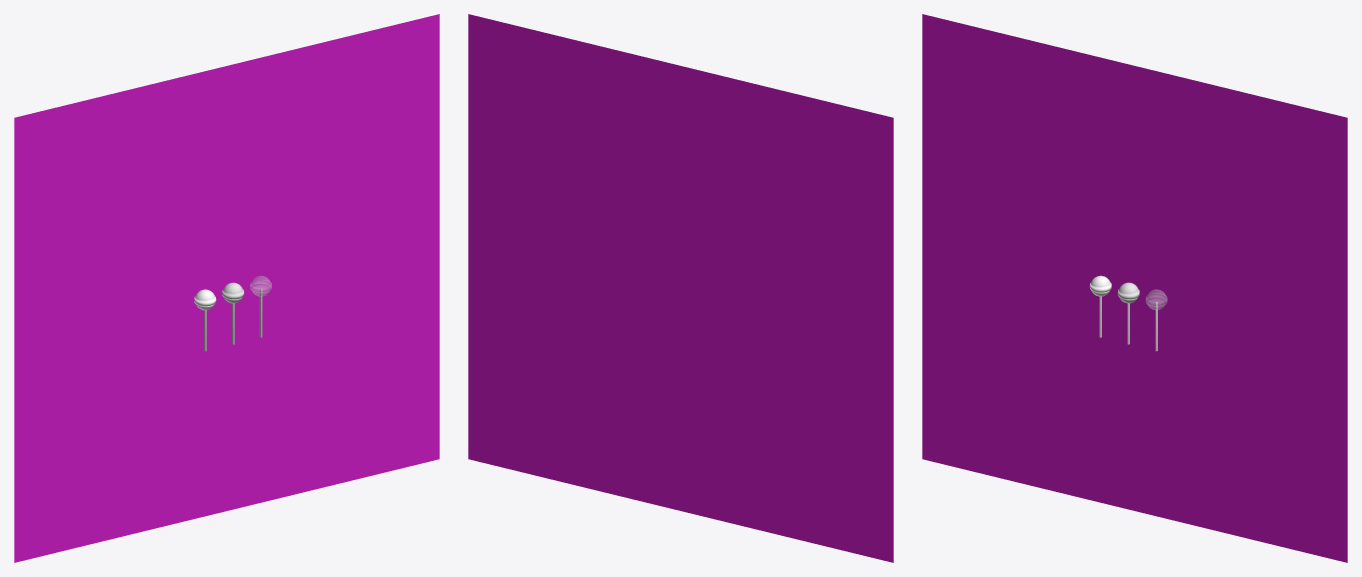
Rendered from キャンディー.glb.
3 renders of one model, left to right at view 1: azimuth 30°, elevation 25°; view 2: azimuth 150°, elevation 25°; view 3: azimuth 330°, elevation 25°, orthographic.
Parts seen in each view (by area): view 1: Plane; view 2: Plane; view 3: Plane.
Part boxes in pixels (x1,y1,x2,y2): Plane: [14, 14, 439, 562]; Plane: [468, 14, 893, 562]; Plane: [922, 14, 1347, 562].
Size of the model in its own units: 46.92 by 46.92 by 2.25.
